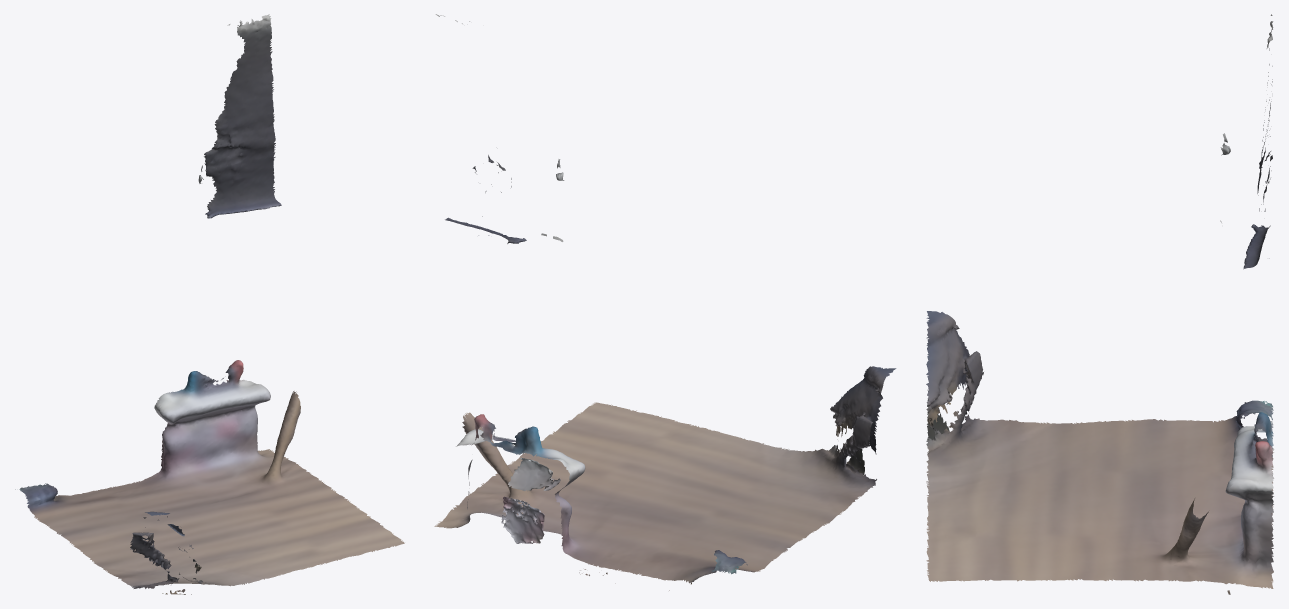
The model's file is apartment-full-90-384cfebcaa8b.glb.
3 renders of one model, left to right at view 1: azimuth 30°, elevation 25°; view 2: azimuth 150°, elevation 25°; view 3: azimuth 270°, elevation 25°, orthographic. The views are drawn at different scales.
Size of the model in its own units: 1.06 by 1.78 by 0.994.
